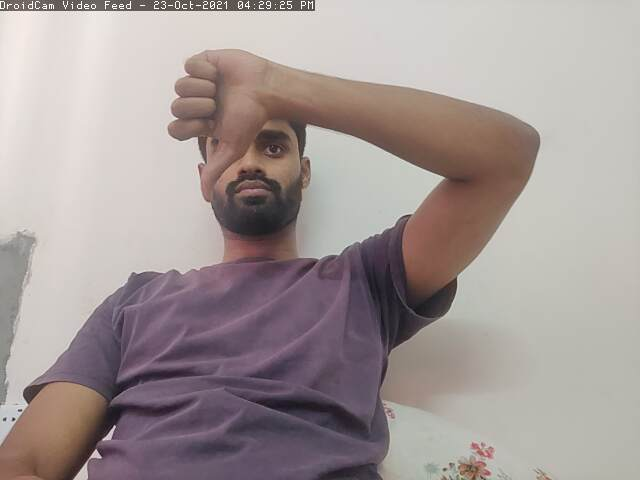ThumbsDown: (161, 46, 267, 203)
